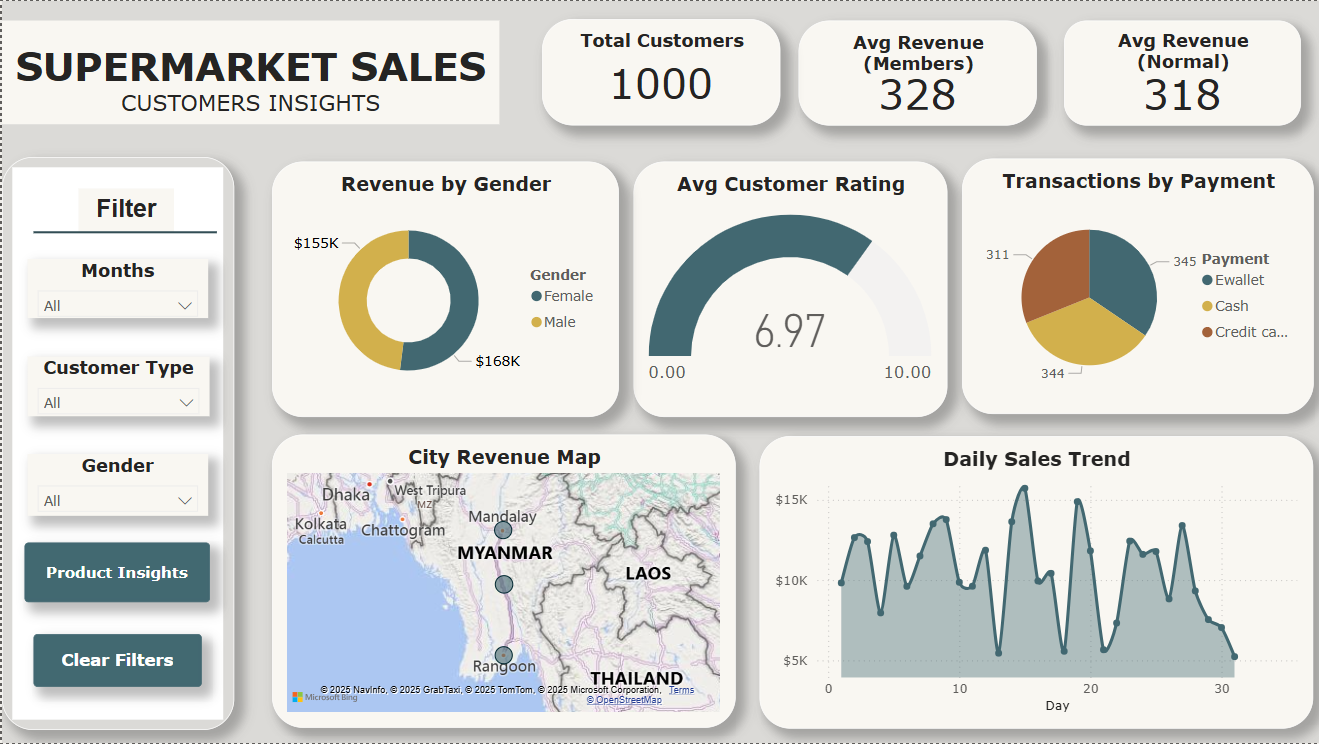

This screenshot's page, from the dashboard's own definition file:
{"tool":"powerbi","page":{"name":"Customer Insights","canvas":[1280,720],"ordinal":1},"visuals":[{"type":"shape","box":[0,151,225,556],"z":0},{"type":"gauge","title":"Avg Customer Rating","fields":{"Y":["Avg(supermarket_sales - Sheet1.Rating)"]},"box":[612.1,155.4,304.4,247.7],"z":1000},{"type":"pieChart","title":"Transactions by Payment","fields":{"Category":["supermarket_sales - Sheet1.Payment"],"Y":["CountNonNull(supermarket_sales - Sheet1.Invoice ID)"]},"box":[931.1,152.2,341.7,247.7],"z":2000},{"type":"donutChart","title":"Revenue by Gender","fields":{"Category":["supermarket_sales - Sheet1.Gender"],"Y":["Sum(supermarket_sales - Sheet1.Total)"]},"box":[262.3,155.4,336.8,247.7],"z":3000},{"type":"map","title":"City Revenue Map","fields":{"Size":["Sum(supermarket_sales - Sheet1.Total)"],"Category":["supermarket_sales - Sheet1.City"]},"box":[262.3,421,450.1,285],"z":4000},{"type":"card","title":" Avg Revenue (Members)","fields":{"Values":["supermarket.AvgTotal_Members1"]},"box":[772.9,18.9,231.4,101.9],"z":5000},{"type":"slicer","title":"Months","fields":{"Values":["supermarket.Date.Variation.Date Hierarchy.Month"]},"box":[25,250,175,57.5],"z":6000},{"type":"card","title":"Avg Revenue (Normal)","fields":{"Values":["supermarket.AvgTotal_Normal"]},"box":[1030.5,18.9,230,101.9],"z":7000},{"type":"slicer","title":"Customer Type","fields":{"Values":["supermarket_sales - Sheet1.Customer type"]},"box":[24.3,344.9,176.5,58.3],"z":8000},{"type":"slicer","title":"Gender","fields":{"Values":["supermarket.Gender"]},"box":[25,440,175,60],"z":9000},{"type":"card","title":"Total Customers","fields":{"Values":["Count(supermarket_sales - Sheet1.Invoice ID)"]},"box":[524,17.5,231.4,103.3],"z":10000},{"type":"areaChart","title":"Daily Sales Trend","fields":{"Y":["Sum(supermarket.Total)"],"Category":["supermarket.Date.Variation.Date Hierarchy.Day"]},"box":[735.3,421.6,537.3,284.3],"z":11000},{"type":"textbox","box":[73.5,182.4,92.6,42.6],"z":12000},{"type":"shape","box":[30.9,198.5,177.9,52.9],"z":13000},{"type":"textbox","box":[0,19.4,482.5,100.4],"z":14000},{"type":"actionButton","box":[31.1,614.1,163.2,51.3],"z":15000},{"type":"actionButton","title":"cccccccccc","box":[22,526,180,58],"z":16000}]}

Visuals, with their boxes in screenshot pixels (x1, y1, x2, y2), scaled from the page's 1280x720 canvas onto the 1319x744 screenshot:
shape: BBox(0, 156, 232, 731)
"Avg Customer Rating" gauge: BBox(631, 161, 944, 417)
"Transactions by Payment" pieChart: BBox(959, 157, 1312, 413)
"Revenue by Gender" donutChart: BBox(270, 161, 617, 417)
"City Revenue Map" map: BBox(270, 435, 734, 730)
" Avg Revenue (Members)" card: BBox(796, 20, 1035, 125)
"Months" slicer: BBox(26, 258, 206, 318)
"Avg Revenue (Normal)" card: BBox(1062, 20, 1299, 125)
"Customer Type" slicer: BBox(25, 356, 207, 417)
"Gender" slicer: BBox(26, 455, 206, 517)
"Total Customers" card: BBox(540, 18, 778, 125)
"Daily Sales Trend" areaChart: BBox(758, 436, 1311, 729)
textbox: BBox(76, 188, 171, 233)
shape: BBox(32, 205, 215, 260)
textbox: BBox(0, 20, 497, 124)
actionButton: BBox(32, 635, 200, 688)
"cccccccccc" actionButton: BBox(23, 544, 208, 603)
